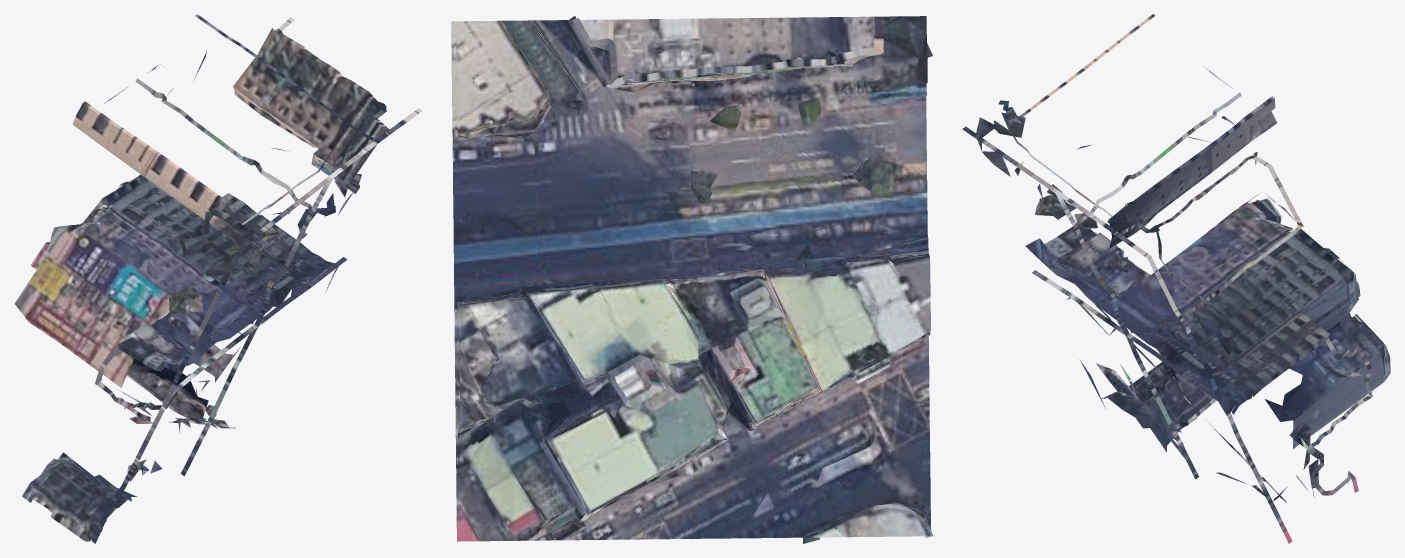
The picture shows the model from 3 angles, left to right: view 1: azimuth 30°, elevation 25°; view 2: azimuth 150°, elevation 25°; view 3: azimuth 270°, elevation 25°; orthographic projection. The views are drawn at different scales.
Size of the model in its own units: 84.34 by 87.52 by 83.23.
2 materials, 2 textured.
